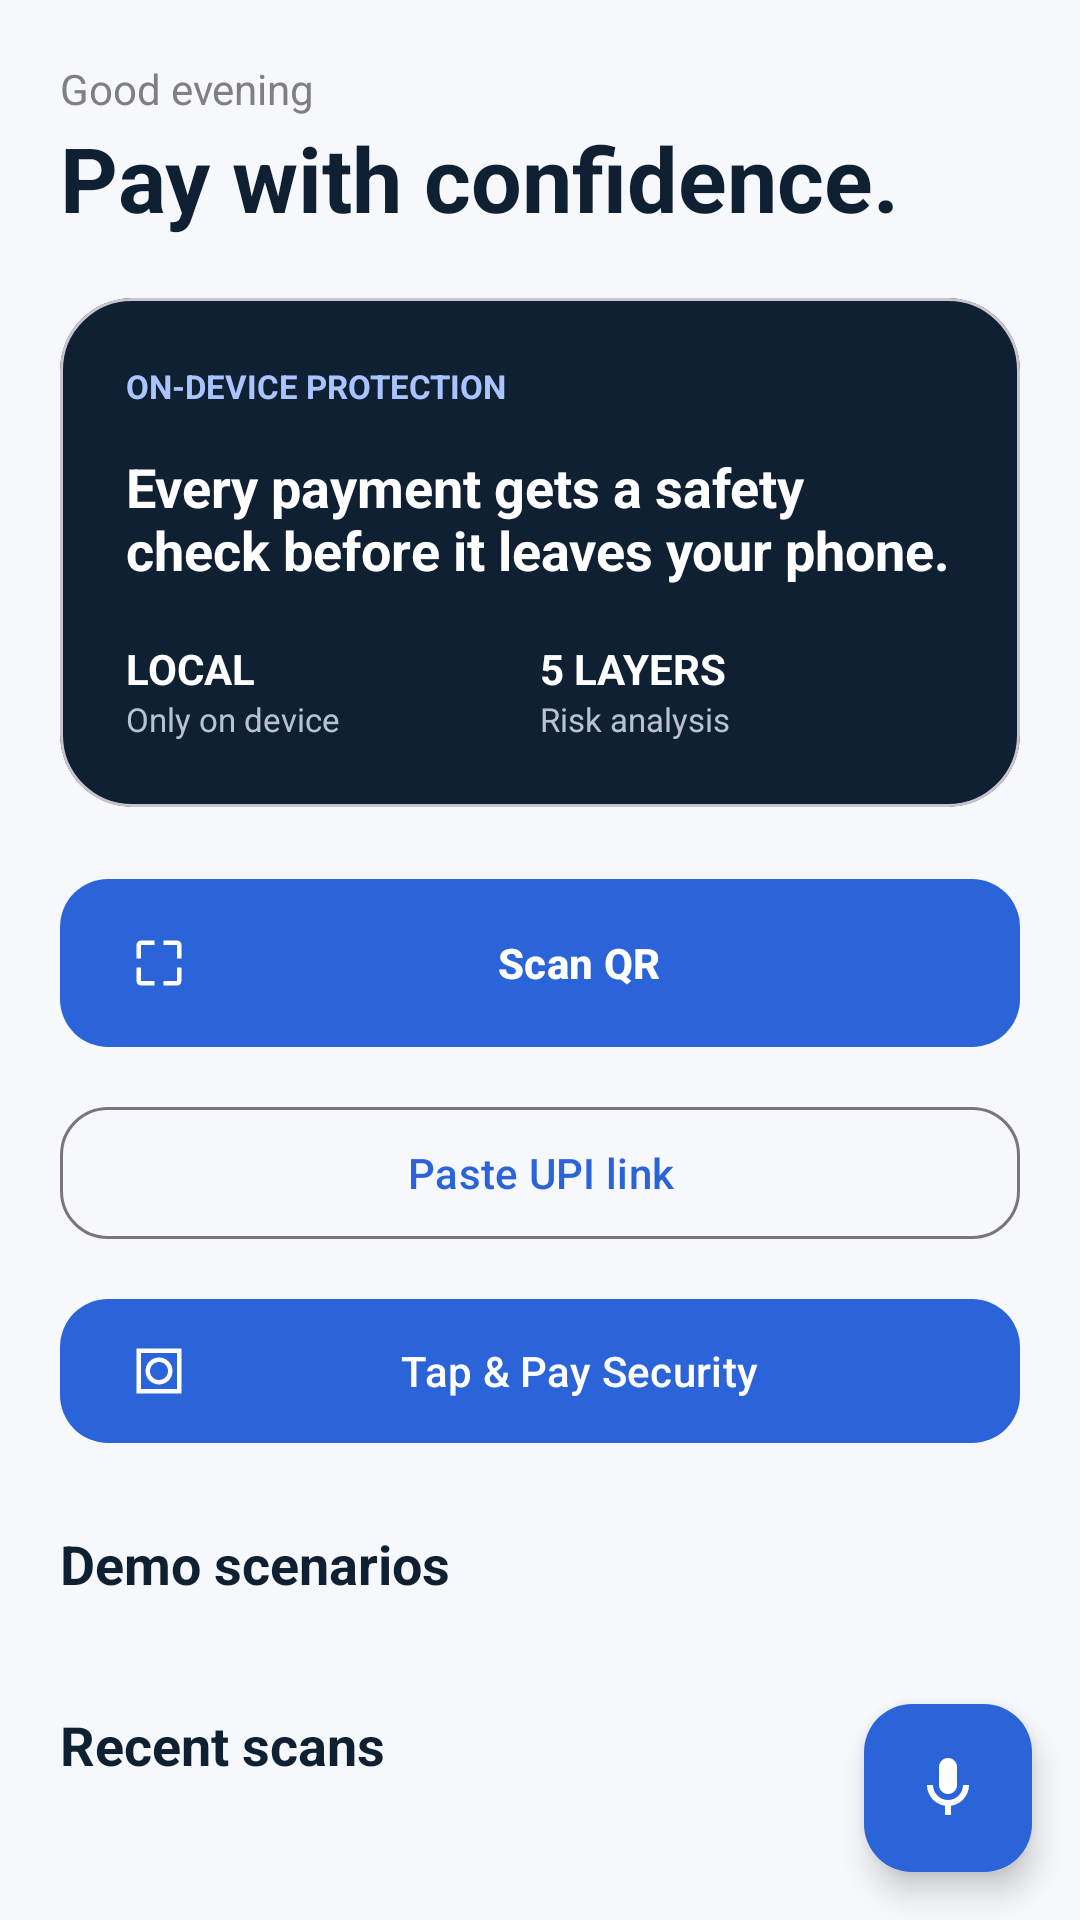

Where to tap for icons on this 1080px×1920px app screen, as (x=x, y=y):
Voice Command: (x=948, y=1788)
